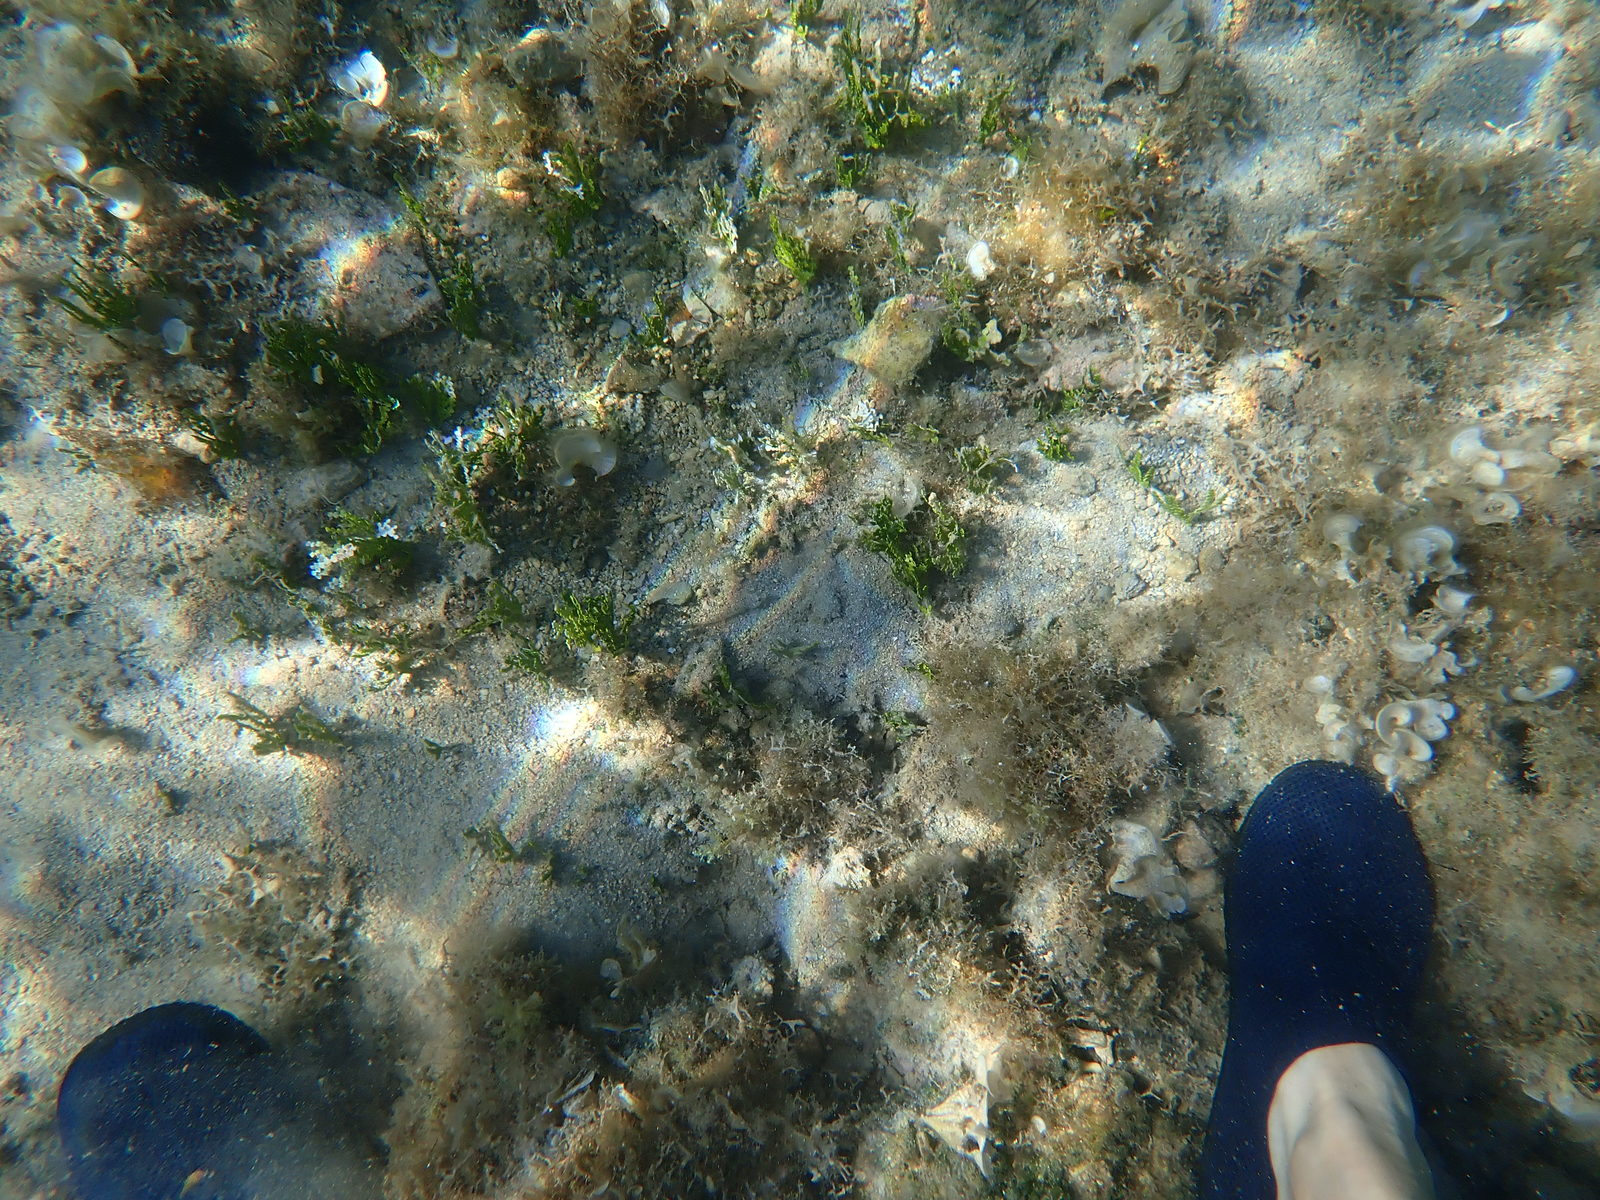halimeda: (305, 505, 413, 596), (488, 384, 548, 527), (328, 350, 402, 465), (215, 689, 343, 755), (420, 426, 488, 543), (840, 16, 894, 155), (254, 309, 348, 386), (449, 570, 528, 643), (55, 253, 122, 326), (767, 211, 816, 303), (547, 589, 614, 652), (940, 315, 1012, 366), (952, 439, 1019, 493), (546, 144, 602, 204), (923, 492, 963, 576), (433, 261, 477, 335), (976, 76, 1020, 146), (697, 180, 740, 251), (1150, 483, 1222, 523), (879, 542, 934, 595), (341, 619, 425, 653), (289, 594, 343, 643), (184, 408, 238, 458), (855, 502, 910, 551), (751, 408, 799, 463), (501, 635, 548, 689), (409, 372, 459, 418), (273, 96, 323, 140), (709, 437, 747, 493), (901, 64, 931, 131), (466, 821, 515, 861), (362, 655, 421, 688), (401, 48, 445, 91), (243, 552, 287, 594), (226, 613, 270, 653), (831, 153, 878, 188), (844, 265, 868, 332), (392, 175, 425, 223), (643, 291, 670, 345), (1032, 427, 1076, 461), (215, 182, 252, 222), (1117, 449, 1158, 483), (540, 213, 573, 255), (738, 150, 763, 199), (849, 425, 898, 449), (884, 224, 908, 271), (787, 1, 821, 33), (569, 290, 601, 323), (937, 82, 963, 121), (1058, 388, 1094, 415), (889, 199, 920, 228), (905, 424, 944, 445), (941, 274, 963, 311), (762, 175, 792, 202), (905, 661, 940, 683), (883, 712, 915, 737), (477, 528, 504, 557), (546, 290, 564, 325), (619, 605, 637, 638), (423, 737, 449, 761), (1085, 366, 1109, 391), (1014, 136, 1033, 158), (916, 601, 935, 616), (1136, 135, 1146, 158), (757, 10, 774, 23)
